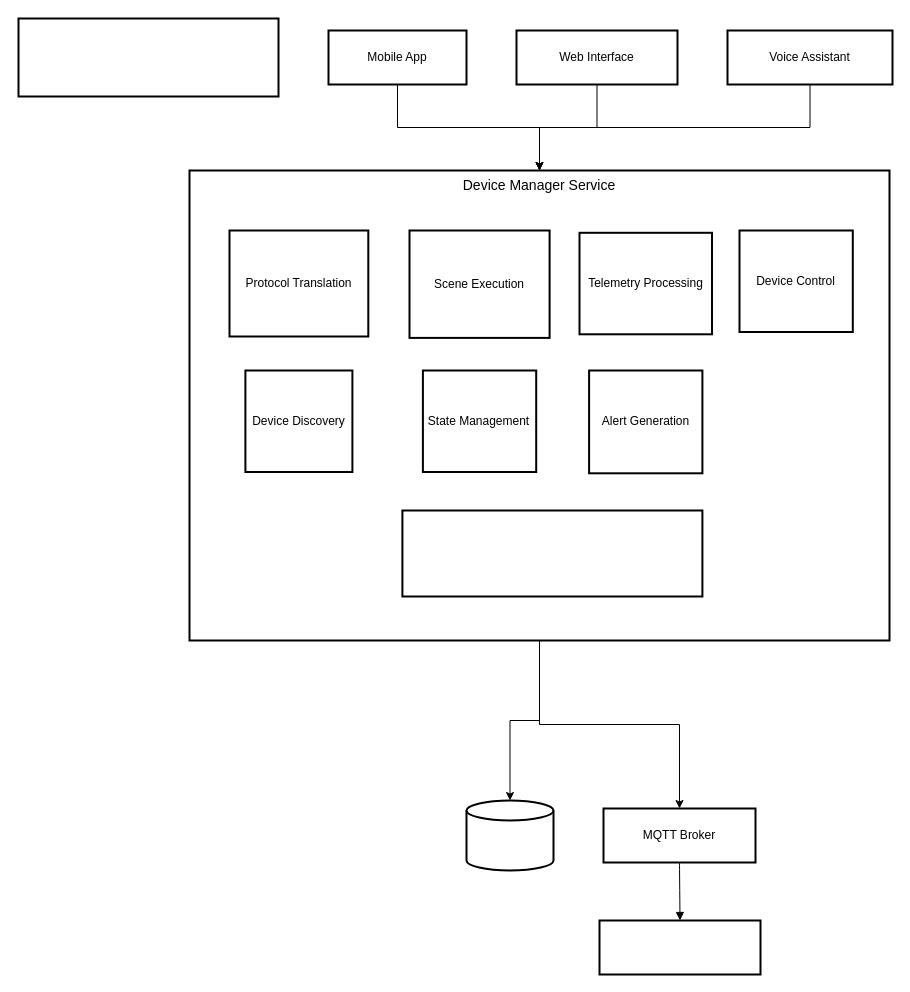
This 910x992 diagram has some shape labels left out. The box of each missing label's shape, as (x1, y1, x2, y2) in pixels:
Before: Device Manager as God Component: (17, 17, 279, 97)
Databases: (465, 799, 554, 871)
Firmware Updates: (401, 509, 703, 597)
Smart Devices: (598, 919, 761, 975)
